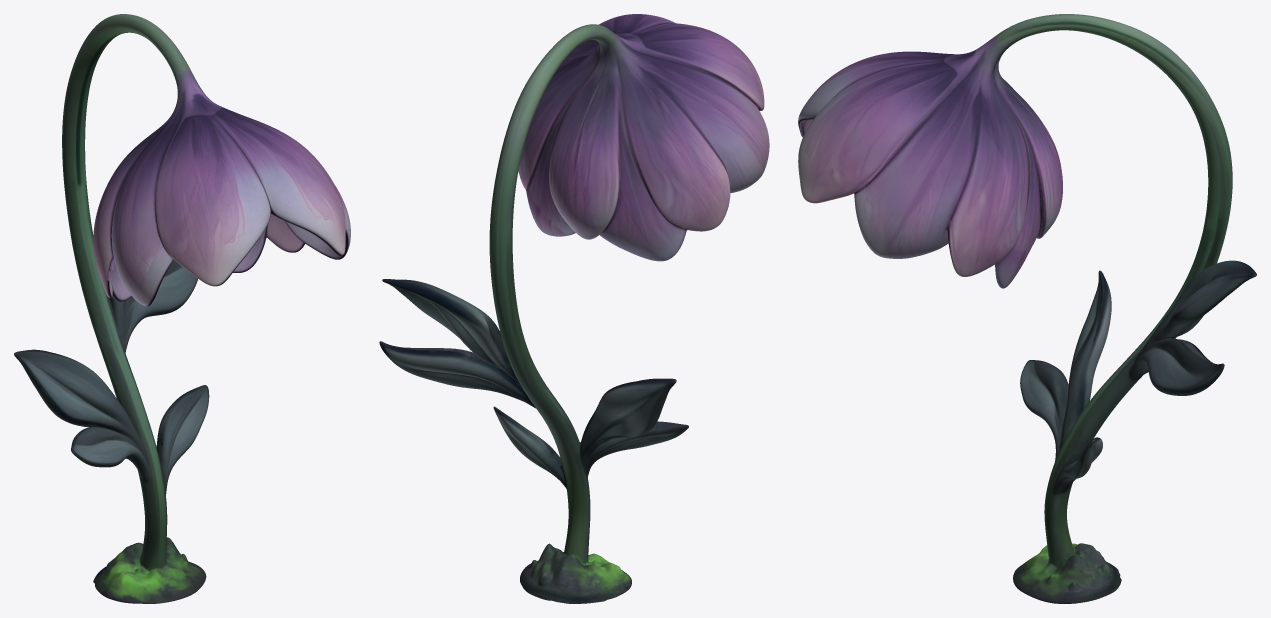
The model's file is Meshy_AI_Twilight_Bellflower_0709151858_texture.fbx.
3 views of the same model, side by side, from view 1: azimuth 30°, elevation 25°; view 2: azimuth 150°, elevation 25°; view 3: azimuth 270°, elevation 25° (orthographic). The views are drawn at different scales.
Parts seen in each view (by area): view 1: Mesh_0; view 2: Mesh_0; view 3: Mesh_0.
Part boxes in pixels (bbox=[...]): Mesh_0: bbox=[14, 14, 350, 603]; Mesh_0: bbox=[379, 14, 769, 603]; Mesh_0: bbox=[798, 14, 1256, 603].
Size of the model in its own units: 86.04 by 190 by 140.
Materials: 1 (1 with a texture image).
